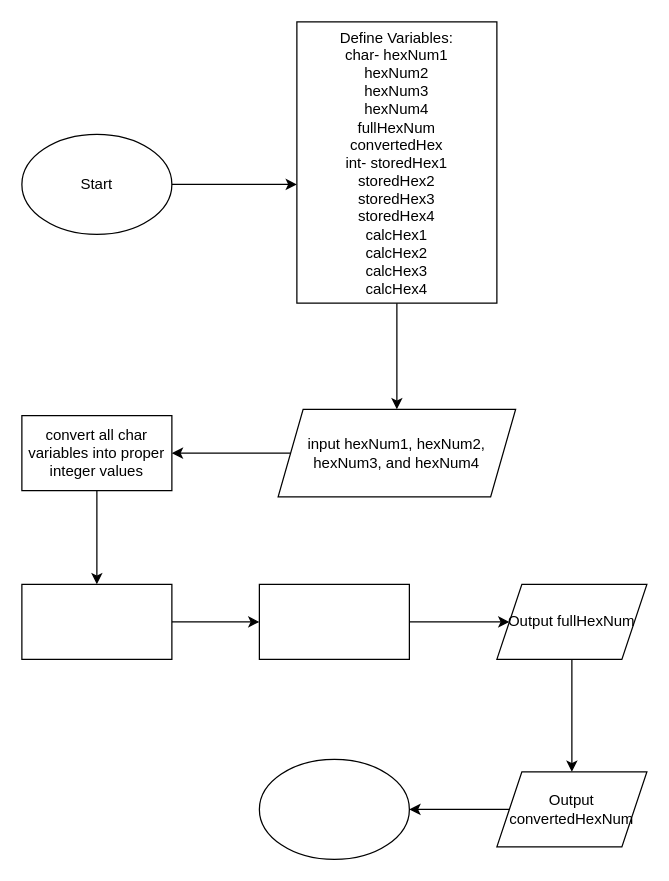
Some shapes in this 669 by 881 pixel diagram are drawn without their labels. Each missing label, with the box of its shape:
Calculate hexadecimal into decimal: (21, 583, 172, 659)
End: (258, 758, 409, 859)
store value into convertedHex: (258, 583, 409, 659)
